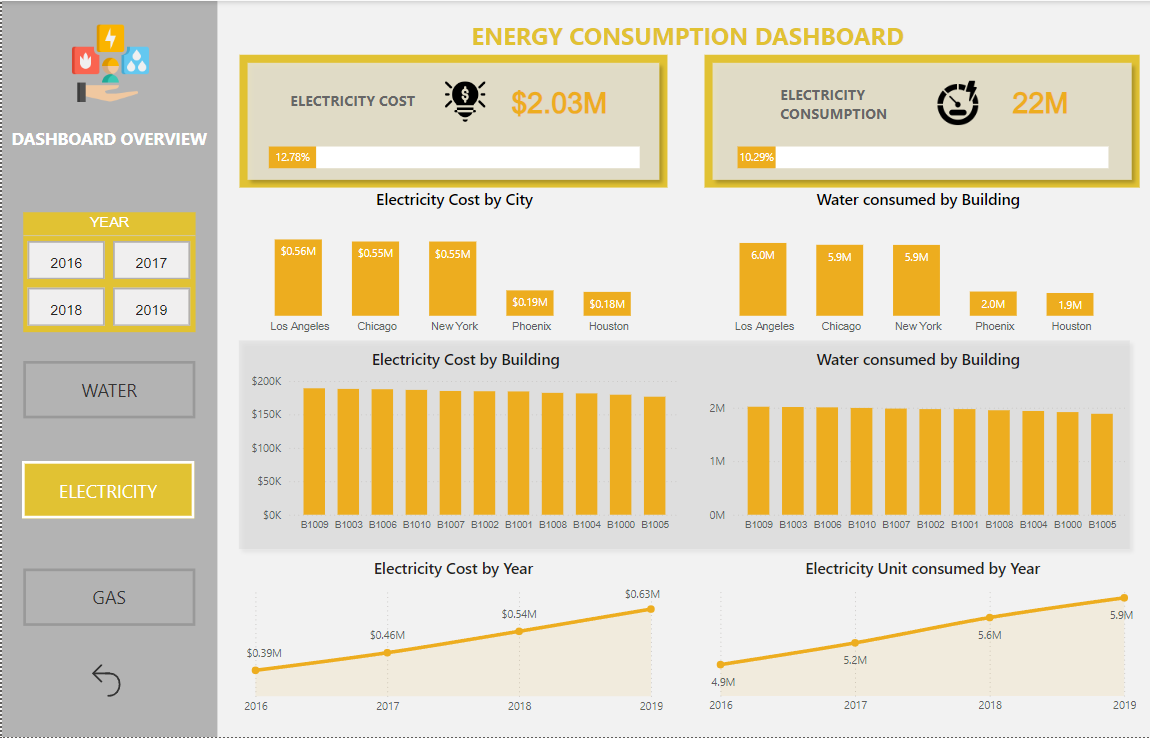

Layout of this report page (visuals, bound fields, positions):
{"tool":"powerbi","page":{"name":"ELECTRICITY","canvas":[1280,820],"ordinal":2},"visuals":[{"type":"shape","title":"Total Cost","box":[782.9,60.4,484.9,148.3],"z":0},{"type":"shape","title":"Total Cost","box":[265.1,60.4,476.6,148.3],"z":1000},{"type":"shape","box":[254.8,368.9,1010.7,250.6],"z":2000},{"type":"shape","box":[0,0,240.4,820],"z":3000},{"type":"image","box":[66.3,15.7,108.5,108.5],"z":4000},{"type":"areaChart","fields":{"Category":["Energy Consumptions.Year"],"Y":["All Measures.Electricity Cost"]},"box":[265.1,619.5,476.6,184.1],"z":5000},{"type":"areaChart","fields":{"Category":["Energy Consumptions.Year"],"Y":["All Measures.Electricity Unit consumed"]},"box":[782.4,619.5,485.9,183.8],"z":6000},{"type":"columnChart","fields":{"Category":["Energy Consumptions.Building"],"Y":["All Measures.Electricity Cost"]},"box":[272.9,387,487.3,214.4],"z":7000},{"type":"clusteredColumnChart","title":"Water consumed by Building","fields":{"Category":["Energy Consumptions.Building"],"Y":["All Measures.Electricity Unit consumed"]},"box":[782.4,387,476.1,214.4],"z":8000},{"type":"columnChart","fields":{"Category":["Building Master.City"],"Y":["All Measures.Electricity Cost"]},"box":[264.5,208.8,478.9,172],"z":9000},{"type":"clusteredColumnChart","title":"Water consumed by Building","fields":{"Category":["Building Master.City"],"Y":["All Measures.Electricity Unit consumed"]},"box":[782.4,208.8,476.1,172],"z":10000},{"type":"card","fields":{"Values":["All Measures.Electricity Cost"]},"box":[501.2,75.2,239.5,76.6],"z":11000},{"type":"card","fields":{"Values":["All Measures.Electricity Unit consumed"]},"box":[1037.2,75.2,239.5,76.6],"z":12000},{"type":"hundredPercentStackedBarChart","fields":{"Y":["All Measures.Electricity Cost","All Measures.Electricity Cost left"]},"box":[292.4,116.9,423.2,108.6],"z":13000},{"type":"hundredPercentStackedBarChart","fields":{"Y":["All Measures.Electricity Unit consumed","All Measures.Electricity Unit consumed left"]},"box":[814.4,116.9,423.2,108.6],"z":14000},{"type":"textbox","box":[316,94.7,185.2,45.9],"z":15000},{"type":"textbox","box":[861.8,87.7,211.6,57.1],"z":16000},{"type":"textbox","box":[572.4,15.3,451.2,62.7],"z":17000},{"type":"textbox","box":[5.6,135,235.3,69.6],"z":18000},{"type":"image","box":[488.7,84.9,54.3,54.3],"z":19000},{"type":"image","box":[1024.7,80.7,80.7,65.4],"z":20000},{"type":"advancedSlicerVisual","title":"YEAR","fields":{"Values":["Energy Consumptions.Year"]},"box":[23.7,235.3,192.1,133.7],"z":21000},{"type":"actionButton","box":[23.2,401.1,191.8,63.9],"z":22000},{"type":"actionButton","box":[22.8,512,192,64],"z":23000},{"type":"actionButton","box":[23.2,632.7,191.8,63.9],"z":24000},{"type":"actionButton","box":[91.9,732.3,64,48.7],"z":25000}]}

Visuals, with their boxes in screenshot pixels (x1, y1, x2, y2), scaled from the page's 1280x820 canvas onto the 1150x738 screenshot:
"Total Cost" shape: <region>703, 54, 1139, 188</region>
"Total Cost" shape: <region>238, 54, 666, 188</region>
shape: <region>229, 332, 1137, 558</region>
shape: <region>0, 0, 216, 737</region>
image: <region>60, 14, 157, 112</region>
areaChart - Energy Consumptions.Year x All Measures.Electricity Cost: <region>238, 558, 666, 723</region>
areaChart - Energy Consumptions.Year x All Measures.Electricity Unit consumed: <region>703, 558, 1139, 723</region>
columnChart - Energy Consumptions.Building x All Measures.Electricity Cost: <region>245, 348, 683, 541</region>
"Water consumed by Building" clusteredColumnChart: <region>703, 348, 1131, 541</region>
columnChart - Building Master.City x All Measures.Electricity Cost: <region>238, 188, 668, 343</region>
"Water consumed by Building" clusteredColumnChart: <region>703, 188, 1131, 343</region>
card - All Measures.Electricity Cost: <region>450, 68, 665, 137</region>
card - All Measures.Electricity Unit consumed: <region>932, 68, 1147, 137</region>
hundredPercentStackedBarChart - All Measures.Electricity Cost x All Measures.Electricity Cost left: <region>263, 105, 643, 203</region>
hundredPercentStackedBarChart - All Measures.Electricity Unit consumed x All Measures.Electricity Unit consumed left: <region>732, 105, 1112, 203</region>
textbox: <region>284, 85, 450, 127</region>
textbox: <region>774, 79, 964, 130</region>
textbox: <region>514, 14, 920, 70</region>
textbox: <region>5, 122, 216, 184</region>
image: <region>439, 76, 488, 125</region>
image: <region>921, 73, 993, 131</region>
"YEAR" advancedSlicerVisual: <region>21, 212, 194, 332</region>
actionButton: <region>21, 361, 193, 418</region>
actionButton: <region>20, 461, 193, 518</region>
actionButton: <region>21, 569, 193, 627</region>
actionButton: <region>83, 659, 140, 703</region>
